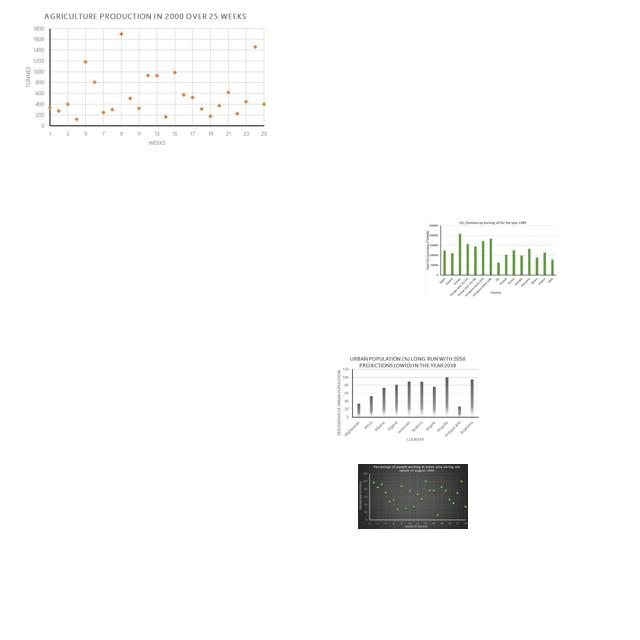Graph: (20, 9, 273, 149), (335, 354, 481, 442), (425, 220, 558, 297), (358, 464, 468, 529)
